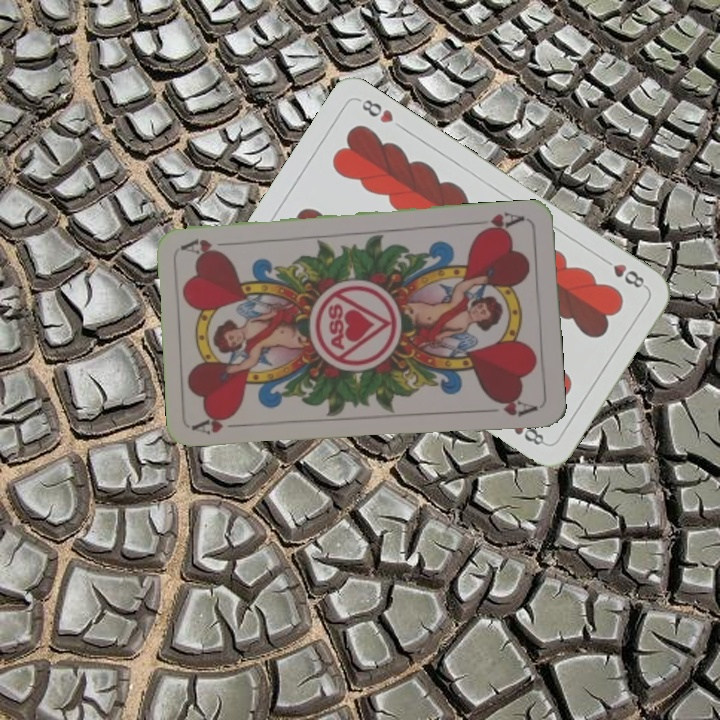H8: (597, 253, 650, 292)
HA: (470, 208, 527, 237), (191, 410, 250, 438)
